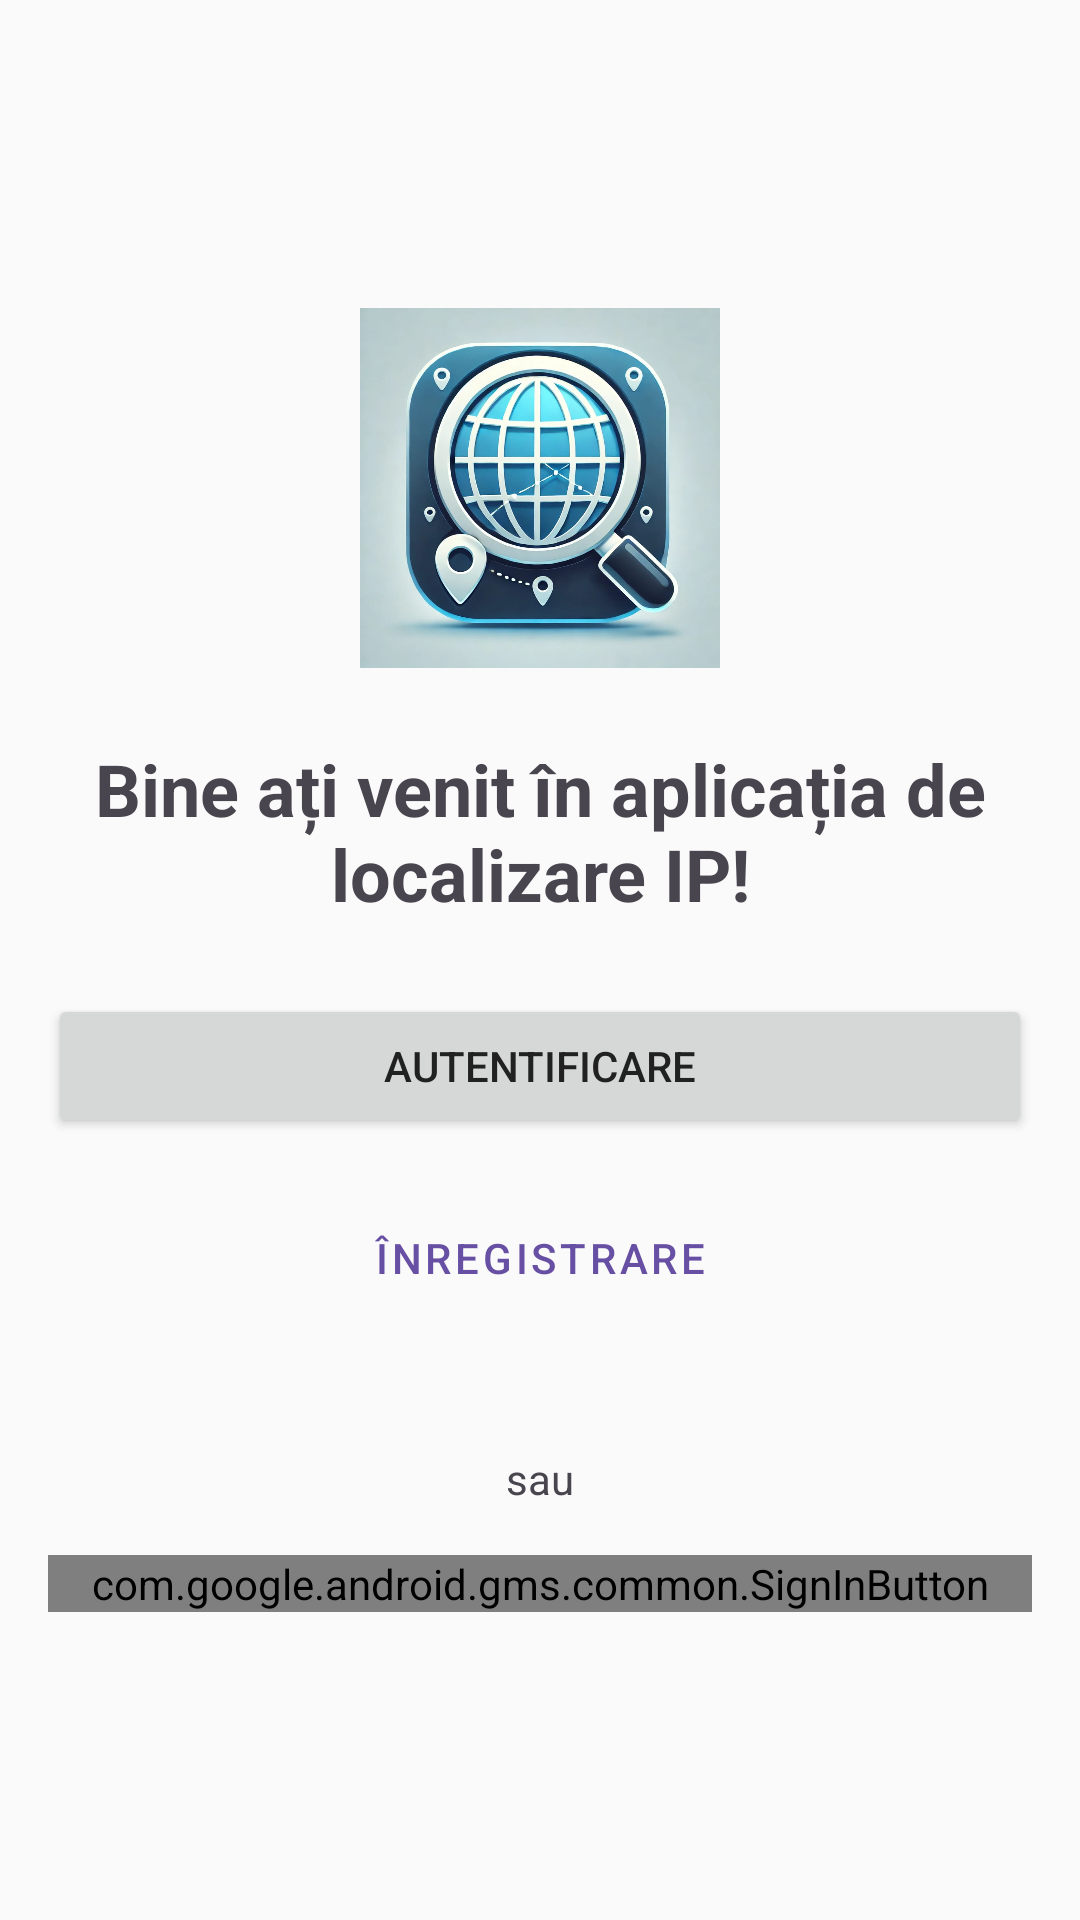

Where icons sit on this 1080*1920 app screen, as (x1, y1, x2, y2):
Icoană aplicație: (360, 308, 720, 668)
